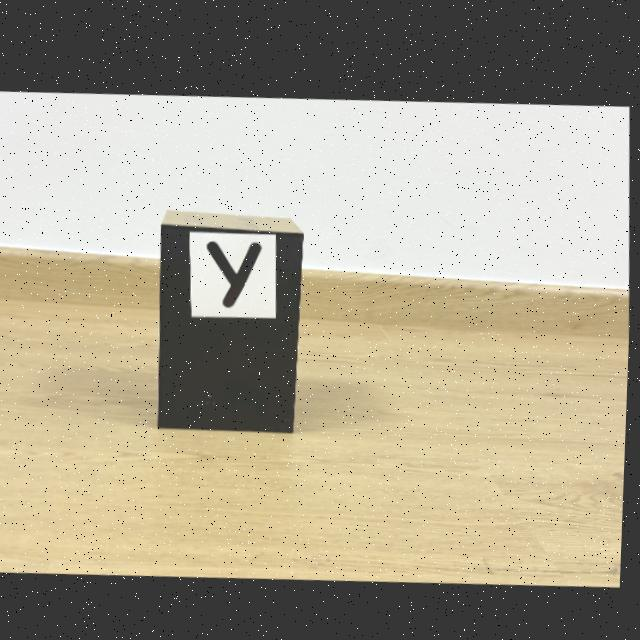Y: (208, 239, 262, 304)
